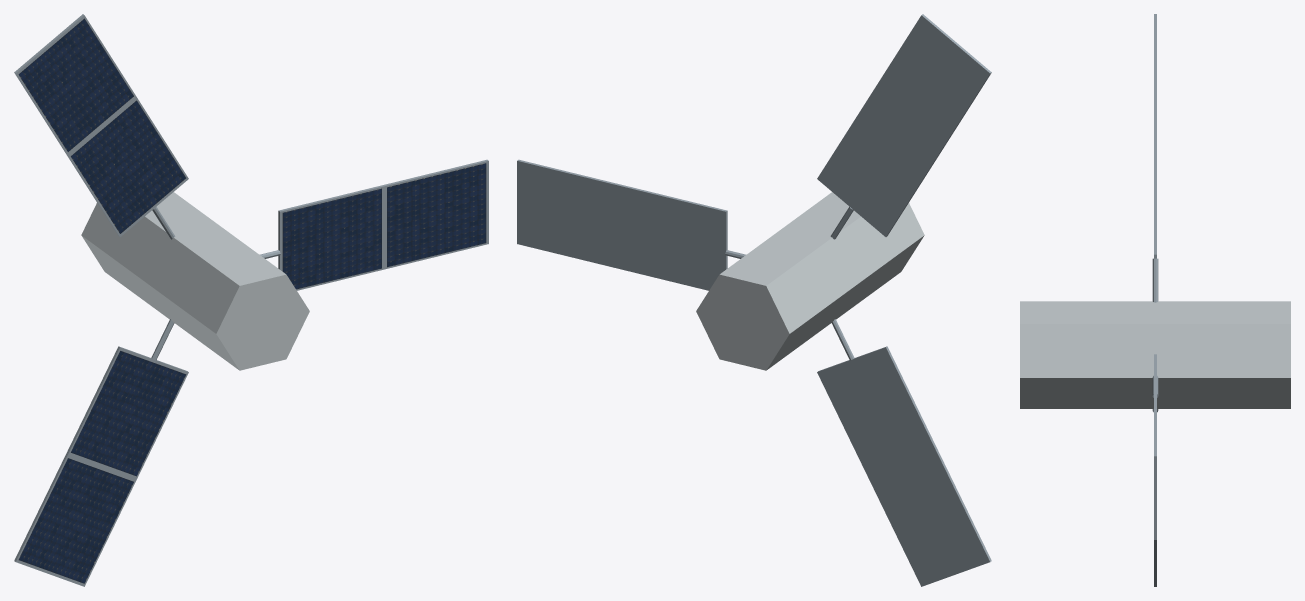
File: ref-559gk-39678.glb
3 views of the same model, side by side, from view 1: azimuth 30°, elevation 25°; view 2: azimuth 150°, elevation 25°; view 3: azimuth 270°, elevation 25° (orthographic).
Visible parts, largest first — view 1: Photovoltaic laminates (×6), Spacecraft body, Array frame (×6); view 2: Array frame (×6), Spacecraft body; view 3: Spacecraft body, Array frame (×3).
Part boxes in pixels (bbox=[...]): Photovoltaic laminates (×6): bbox=[18, 18, 486, 583]; Spacecraft body: bbox=[81, 192, 309, 370]; Array frame (×6): bbox=[14, 14, 488, 586]; Array frame (×6): bbox=[517, 14, 991, 586]; Spacecraft body: bbox=[696, 192, 924, 370]; Spacecraft body: bbox=[1020, 301, 1290, 408]; Array frame (×3): bbox=[1154, 14, 1156, 539].
Bounding box in the file's own units: 4.04 × 4.67 × 2.
3 materials, 1 textured.
